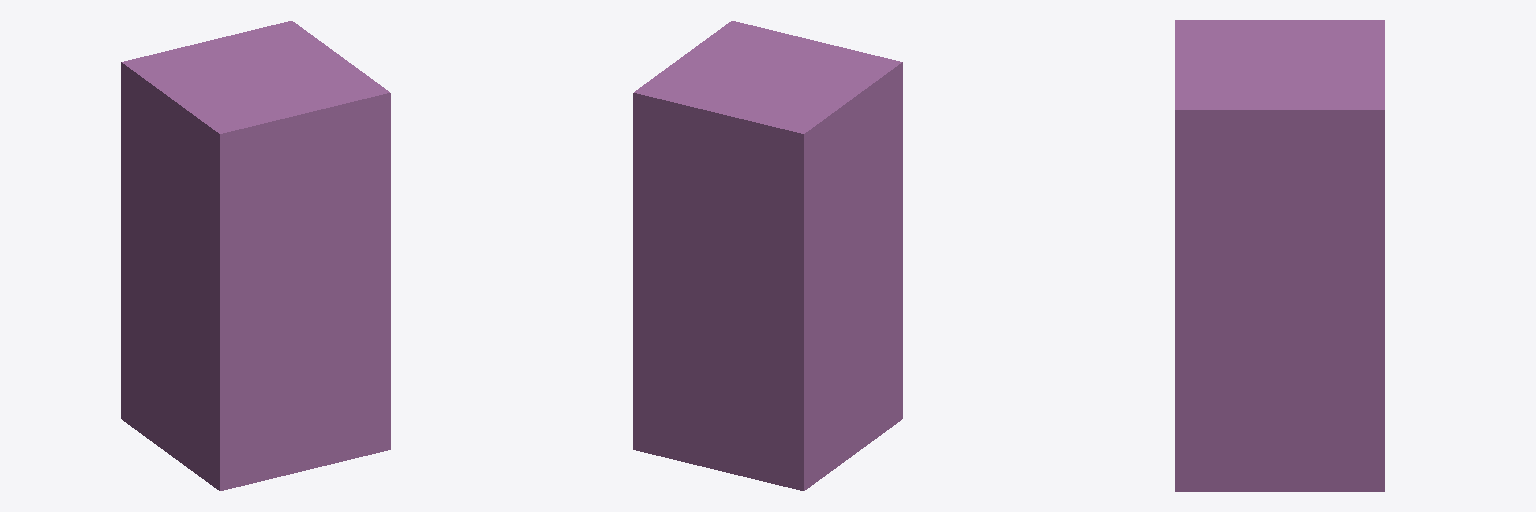
The robot description file, URDF, robot "box":
<?xml version="1.0"?>
<robot name="box">
  <material name="wallmat">
    <color rgba="0.7 0.5 0.7 1"/>
  </material>

  <link name="wall_link">
    <inertial>
      <origin rpy="0 0 0" xyz="0 0 0"/>
      <mass value="0"/>
      <inertia ixx="0" ixy="0" ixz="0" iyy="0" iyz="0" izz="0"/>
    </inertial>
    <visual>
      <origin rpy="0 0 0" xyz="0.00 0.00 2.00"/>
      <geometry>
        <box size="2.0 2.0 4.0"/>
      </geometry>
      <material name="wallmat"/>
    </visual>
    <collision>
      <origin rpy="0 0 0" xyz="0.00 0.00 2.00"/>
      <geometry>
        <box size="2.0 2.0 4.0"/>
      </geometry>
    </collision>
  </link>

</robot>

--- What the picture shows (computed from the rendered views, not written in the file) ---
Views: 3 orthographic renders of the robot side by side, from view 1: azimuth 30°, elevation 25°; view 2: azimuth 150°, elevation 25°; view 3: azimuth 270°, elevation 25°.
Model box with 1 links and 0 joints (none), rooted at wall_link, posed every joint at zero.
Visible links, largest first — view 1: wall_link; view 2: wall_link; view 3: wall_link.
Link boxes in pixels (box(x1,y1,x2,y2)): wall_link: box(121, 21, 390, 490); wall_link: box(633, 21, 902, 490); wall_link: box(1175, 20, 1384, 491).
Bounding box of the posed robot: 2 × 2 × 4 m (x, y, z).
Geometry: primitives only (box / cylinder / sphere), no mesh files.